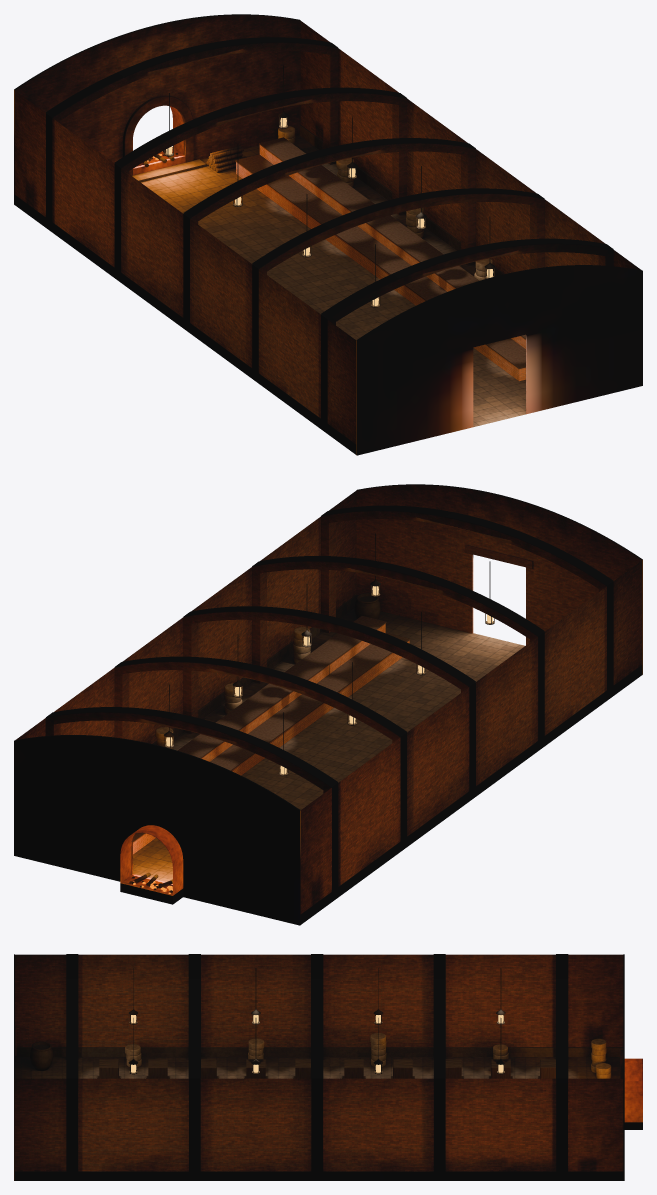
Rendered from earth-hall.glb.
3 renders of one model, top to bottom at view 1: azimuth 30°, elevation 25°; view 2: azimuth 150°, elevation 25°; view 3: azimuth 270°, elevation 25°, orthographic. The views are drawn at different scales.
Visible parts, largest first — view 1: hall_ends, hall_wall_left, hall_wall_right, hall_vault, hall_floor_b, hall_tiers, hall_floor_a, hall_props; view 2: hall_ends, hall_wall_left, hall_wall_right, hall_vault, hall_floor_a, hall_tiers, hall_floor_b, hall_props; view 3: hall_wall_right, hall_wall_left, hall_vault, hall_props, hall_floor_a, hall_floor_b, hall_ends.
Boxes of the visible parts, x1,y1,x2,y2 form: hall_ends: (14,14,642,455); hall_wall_left: (14,90,356,454); hall_wall_right: (299,21,641,276); hall_vault: (46,37,613,321); hall_floor_b: (132,135,456,300); hall_tiers: (235,137,525,381); hall_floor_a: (303,264,526,426); hall_props: (164,65,495,307); hall_ends: (14,484,642,925); hall_wall_left: (300,560,642,924); hall_wall_right: (15,491,357,744); hall_vault: (46,505,613,789); hall_floor_a: (194,608,524,771); hall_tiers: (133,616,410,854); hall_floor_b: (133,732,353,881); hall_props: (133,533,494,866); hall_wall_right: (15,1078,623,1180); hall_wall_left: (15,954,623,1056); hall_vault: (66,954,568,1078); hall_props: (30,968,611,1078); hall_floor_a: (15,1057,310,1078); hall_floor_b: (323,1057,620,1078); hall_ends: (14,954,642,1180).
Size of the model in its own units: 12 by 5.82 by 25.68.
10 materials, 8 textured.
